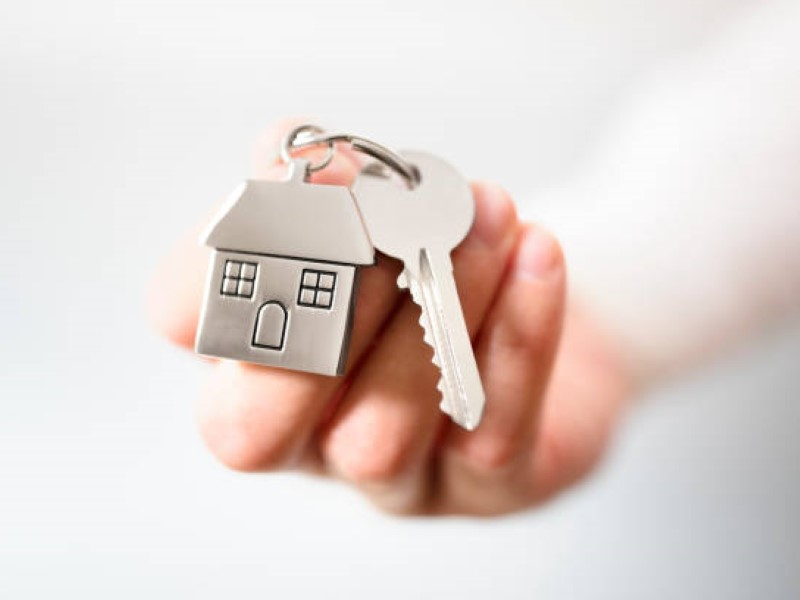key: (350, 137, 491, 441)
